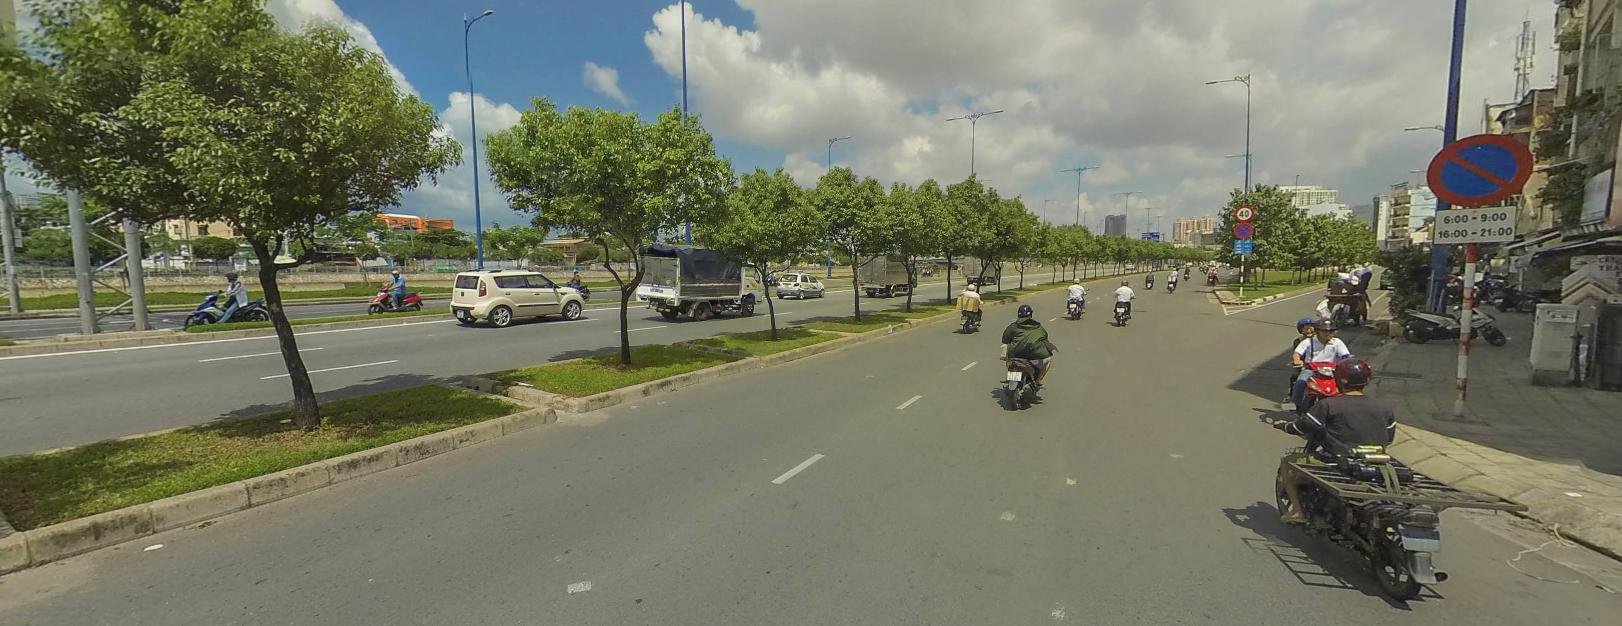Cam dung va do: (1426, 127, 1536, 205), (1234, 221, 1254, 236)
Gioi han toc do: (1235, 204, 1254, 220)
